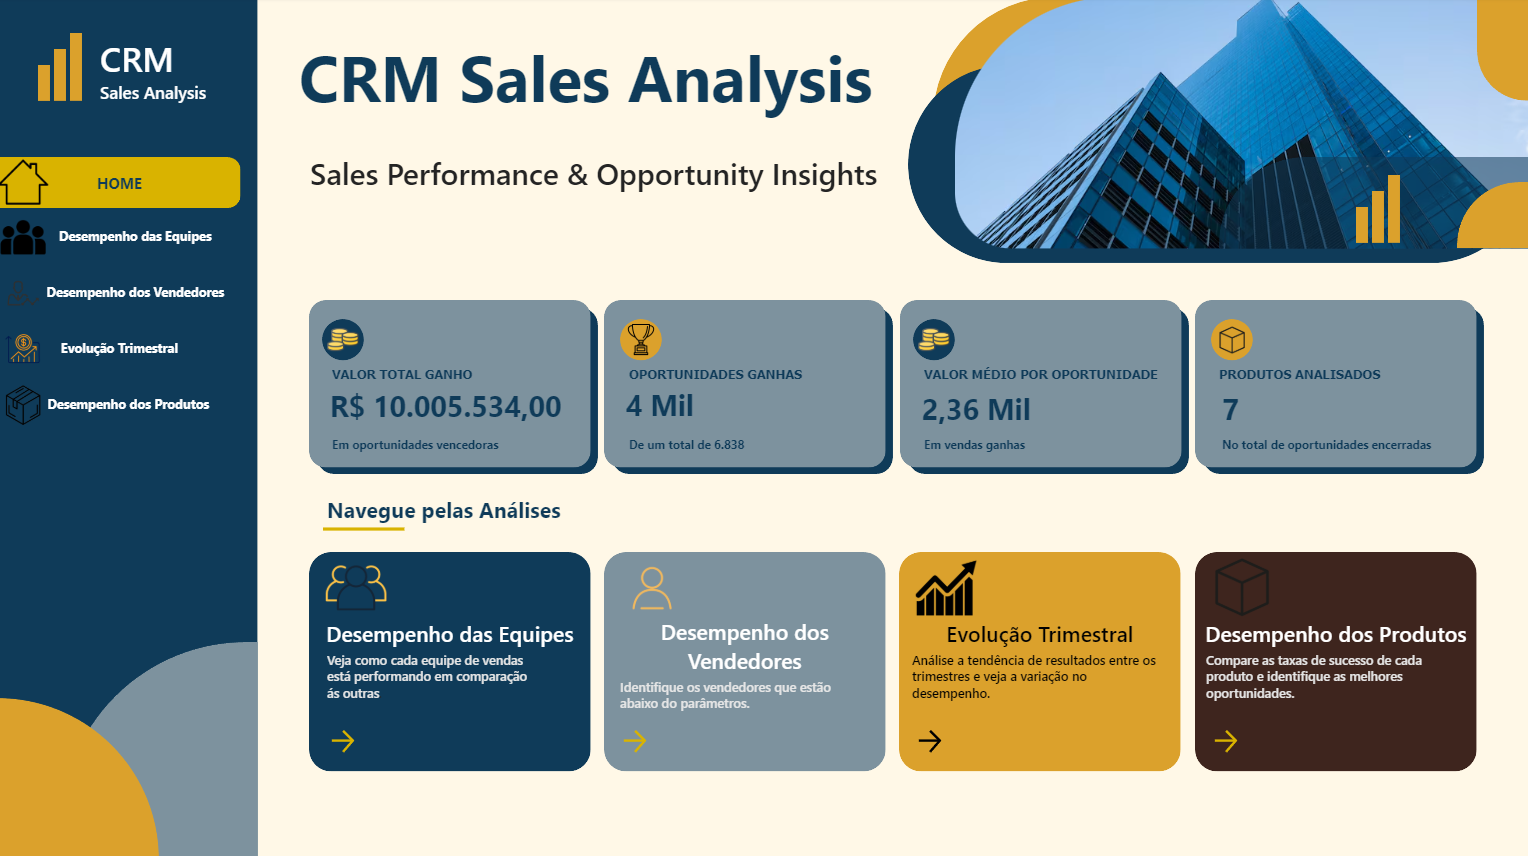

Layout of this report page (visuals, bound fields, positions):
{"tool":"powerbi","page":{"name":"Home","canvas":[1920,1080],"ordinal":0},"visuals":[{"type":"shape","box":[0,0,1920,1080],"z":0,"group":"g20"},{"type":"shape","box":[0,0,325,1080],"z":0,"group":"g1"},{"type":"group","id":"g1","title":"obj menu","box":[0,0,325,1080],"z":0,"group":"g4"},{"type":"shape","box":[1171.7,0,748.3,218.3],"z":0,"group":"g18"},{"type":"textbox","box":[377.2,45.7,744.1,144.4],"z":0,"group":"g16"},{"type":"actionButton","box":[0,200,304,64],"z":0,"group":"g5"},{"type":"actionButton","box":[0,270,304,64],"z":0,"group":"g8"},{"type":"actionButton","box":[0,340,304,64],"z":0,"group":"g12"},{"type":"group","id":"g2","title":"Produtos analisados","box":[1500,380,362,218],"z":0,"group":"g13"},{"type":"shape","box":[400,390,352,208],"z":0,"group":"g14"},{"type":"shape","box":[770,390,352,208],"z":0,"group":"g9"},{"type":"shape","box":[1140,390,352,208],"z":0,"group":"g6"},{"type":"shape","box":[1510,390,352,208],"z":0,"group":"g2"},{"type":"actionButton","box":[0,410,304,64],"z":0,"group":"g17"},{"type":"actionButton","box":[0,480,304,64],"z":0,"group":"g19"},{"type":"shape","box":[390,695,353,275],"z":0,"group":"g15"},{"type":"shape","box":[760,695,353,275],"z":0,"group":"g11"},{"type":"shape","box":[1130,695,353,275],"z":0,"group":"g7"},{"type":"shape","box":[1500,695,353,275],"z":0,"group":"g3"},{"type":"group","id":"g3","title":"Desempenho produtos","box":[1500,695,353,275],"z":0,"group":"g10"},{"type":"group","id":"g4","title":"Menu","box":[0,0,325,1080],"z":1000,"group":"g20"},{"type":"shape","box":[50,85,15,45],"z":1000,"group":"g1"},{"type":"shape","box":[1140,85,780,248.3],"z":1000,"group":"g18"},{"type":"textbox","box":[390.5,176.8,730.9,179.8],"z":1000,"group":"g16"},{"type":"group","id":"g5","title":"Home","box":[0,200,304.3,64.6],"z":1000,"group":"g4"},{"type":"textbox","box":[0,200.6,304.3,64],"z":1000,"group":"g5"},{"type":"image","box":[0,269.7,63.4,63.4],"z":1000,"group":"g8"},{"type":"textbox","box":[0,340.4,304.3,64],"z":1000,"group":"g12"},{"type":"shape","title":"v","box":[390,380,353,210],"z":1000,"group":"g14"},{"type":"shape","box":[760,380,353,210],"z":1000,"group":"g9"},{"type":"group","id":"g6","title":"Valor médio por oportunidade","box":[1130,380,362,218],"z":1000,"group":"g13"},{"type":"shape","box":[1130,380,353,210],"z":1000,"group":"g6"},{"type":"shape","box":[1500,380,353,210],"z":1000,"group":"g2"},{"type":"textbox","box":[0,410,304.3,64],"z":1000,"group":"g17"},{"type":"textbox","box":[0,480,304.3,64],"z":1000,"group":"g19"},{"type":"group","id":"g7","title":"Evolução Trimestral","box":[1129.8,695,353.2,275],"z":1000,"group":"g10"},{"type":"image","box":[390.5,702.9,117.9,75.1],"z":1000,"group":"g15"},{"type":"image","box":[760.3,702.9,117.9,75.1],"z":1000,"group":"g11"},{"type":"image","box":[1130.2,702.9,117.9,75.1],"z":1000,"group":"g7"},{"type":"image","box":[1500,702.9,117.9,75.1],"z":1000,"group":"g3"},{"type":"image","box":[1198.3,0,721.7,315],"z":2000,"group":"g18"},{"type":"shape","box":[70,65,15,65],"z":2000,"group":"g1"},{"type":"image","box":[0,200.4,63.4,63.4],"z":2000,"group":"g5"},{"type":"group","id":"g8","title":"Desempenho das equipes","box":[0,269.7,304.3,64.3],"z":2000,"group":"g4"},{"type":"textbox","box":[0,270,304.3,64],"z":2000,"group":"g8"},{"type":"image","box":[0,340.4,63.4,63.4],"z":2000,"group":"g12"},{"type":"group","id":"g9","title":"Oportunidades ganhas","box":[760,380,362,218],"z":2000,"group":"g13"},{"type":"shape","box":[406.2,403.8,52.5,51.9],"z":2000,"group":"g14"},{"type":"shape","box":[780,403.8,52.5,51.9],"z":2000,"group":"g9"},{"type":"shape","box":[1146.2,403.8,52.5,51.9],"z":2000,"group":"g6"},{"type":"shape","box":[1520,403.8,52.5,51.9],"z":2000,"group":"g2"},{"type":"image","box":[0,409.6,63.4,63.4],"z":2000,"group":"g17"},{"type":"image","box":[0,480.4,63.4,63.4],"z":2000,"group":"g19"},{"type":"shape","box":[406.7,639.7,102.3,55.2],"z":2000,"group":"g16"},{"type":"group","id":"g10","title":"Páginas detalhadas","box":[390,695,1463,275],"z":2000,"group":"g20"},{"type":"group","id":"g11","title":"Desempenho vendedor","box":[759.5,695,353.5,275],"z":2000,"group":"g10"},{"type":"textbox","box":[412.1,818.8,311.1,80.8],"z":2000,"group":"g15"},{"type":"textbox","box":[1146,818.8,311.1,80.8],"z":2000,"group":"g7"},{"type":"textbox","box":[1513.6,818.8,311.1,80.8],"z":2000,"group":"g3"},{"type":"textbox","box":[779.7,852.4,311.1,80.8],"z":2000,"group":"g11"},{"type":"shape","box":[90,45,15,85],"z":3000,"group":"g1"},{"type":"shape","box":[1530,200,390,115],"z":3000,"group":"g18"},{"type":"actionButton","box":[0,270,304,64],"z":3000,"group":"g8"},{"type":"group","id":"g12","title":"Desempenho dos vendedores","box":[0,340,304.3,64.4],"z":3000,"group":"g4"},{"type":"actionButton","box":[0,340,304,64],"z":3000,"group":"g12"},{"type":"group","id":"g13","title":"Cartões","box":[390,379.8,1472,218.2],"z":3000,"group":"g20"},{"type":"group","id":"g14","title":"Valor total ganho","box":[390,379.8,362,218.2],"z":3000,"group":"g13"},{"type":"actionButton","box":[0,410,304,64],"z":3000,"group":"g17"},{"type":"image","box":[412.5,410,40,39.4],"z":3000,"group":"g14"},{"type":"image","box":[786.2,410,40,39.4],"z":3000,"group":"g9"},{"type":"image","box":[1152.5,410,40,39.4],"z":3000,"group":"g6"},{"type":"image","box":[1520,410,52.5,40],"z":3000,"group":"g2"},{"type":"actionButton","box":[0,480.4,304,64],"z":3000,"group":"g19"},{"type":"textbox","box":[412,624.9,300.3,70],"z":3000,"group":"g16"},{"type":"group","id":"g15","title":"Desempenho equipe","box":[390,695,353,275],"z":3000,"group":"g10"},{"type":"actionButton","box":[393.2,899.6,76.8,66],"z":3000,"group":"g15"},{"type":"actionButton","box":[759.5,899.6,76.8,66],"z":3000,"group":"g11"},{"type":"actionButton","box":[1129.8,899.6,76.8,66],"z":3000,"group":"g7"},{"type":"actionButton","box":[1500.1,899.6,76.8,66],"z":3000,"group":"g3"},{"type":"group","id":"g16","title":"Título & Subtítulo","box":[377.2,45.7,744.1,649.2],"z":4000,"group":"g20"},{"type":"textbox","box":[128,48,160,96],"z":4000,"group":"g1"},{"type":"shape","box":[1828.3,231.7,91.7,83.3],"z":4000,"group":"g18"},{"type":"textbox","box":[390.5,379.8,352.8,210.1],"z":4000,"group":"g14"},{"type":"group","id":"g17","title":"Evolução Trimestral","box":[0,409.6,304.3,64.4],"z":4000,"group":"g4"},{"type":"textbox","box":[770.7,456.8,343.3,36.8],"z":4000,"group":"g9"},{"type":"textbox","box":[1140.5,456.8,343.3,36.8],"z":4000,"group":"g6"},{"type":"textbox","box":[1510.4,456.8,343.3,36.8],"z":4000,"group":"g2"},{"type":"group","id":"g18","title":"Imagens","box":[1140,0,780,333.3],"z":5000,"group":"g20"},{"type":"shape","box":[1853.3,0,66.7,130],"z":5000,"group":"g18"},{"type":"group","id":"g19","title":"Desempenho dos produtos","box":[0,480,304.3,64.4],"z":5000,"group":"g4"},{"type":"cardVisual","fields":{"Data":["crm_sales sales_pipeline.Oportunidades_Ganhas_Qtd"]},"box":[761.8,483.3,352.8,56.6],"z":5000,"group":"g9"},{"type":"textbox","box":[1513.3,483.3,343.3,56],"z":5000,"group":"g2"},{"type":"cardVisual","fields":{"Data":["crm_sales sales_pipeline.Oportunidades_Ganhas_Display"]},"box":[390.5,483.5,352.8,56.6],"z":5000,"group":"g14"},{"type":"cardVisual","fields":{"Data":["crm_sales sales_pipeline.Valor_Medio_Oportunidade_Ganha"]},"box":[1131.7,487.7,352.8,56.6],"z":5000,"group":"g6"},{"type":"shape","box":[78.3,808.3,246.7,271.7],"z":5000,"group":"g1"},{"type":"group","id":"g20","title":"Home","box":[0,0,1920,1080],"z":5001},{"type":"shape","box":[1701.9,262.5,15,45],"z":6000,"group":"g18"},{"type":"textbox","box":[399.3,456.8,343.3,36.8],"z":6000,"group":"g14"},{"type":"textbox","box":[770.7,543.7,343.3,38.3],"z":6000,"group":"g9"},{"type":"textbox","box":[1140.5,543.7,343.3,38.3],"z":6000,"group":"g6"},{"type":"textbox","box":[1513.3,543.7,343.3,38.3],"z":6000,"group":"g2"},{"type":"shape","box":[0,878.3,201.7,201.7],"z":6000,"group":"g1"},{"type":"shape","box":[1721.9,242.5,15,65],"z":7000,"group":"g18"},{"type":"textbox","box":[399.3,543.8,343.3,38.3],"z":7000,"group":"g14"},{"type":"shape","box":[1741.9,222.5,15,85],"z":8000,"group":"g18"}]}

Visuals, with their boxes in screenshot pixels (x1, y1, x2, y2), scaled from the page's 1920x1080 canvas onto the 1528x856 screenshot:
shape: l=0, t=0, r=1527, b=855
shape: l=0, t=0, r=259, b=855
"obj menu" group: l=0, t=0, r=259, b=855
shape: l=932, t=0, r=1527, b=173
textbox: l=300, t=36, r=892, b=151
actionButton: l=0, t=159, r=242, b=209
actionButton: l=0, t=214, r=242, b=265
actionButton: l=0, t=269, r=242, b=320
"Produtos analisados" group: l=1194, t=301, r=1482, b=474
shape: l=318, t=309, r=598, b=474
shape: l=613, t=309, r=893, b=474
shape: l=907, t=309, r=1187, b=474
shape: l=1202, t=309, r=1482, b=474
actionButton: l=0, t=325, r=242, b=376
actionButton: l=0, t=380, r=242, b=431
shape: l=310, t=551, r=591, b=769
shape: l=605, t=551, r=886, b=769
shape: l=899, t=551, r=1180, b=769
shape: l=1194, t=551, r=1475, b=769
"Desempenho produtos" group: l=1194, t=551, r=1475, b=769
"Menu" group: l=0, t=0, r=259, b=855
shape: l=40, t=67, r=52, b=103
shape: l=907, t=67, r=1527, b=264
textbox: l=311, t=140, r=892, b=283
"Home" group: l=0, t=159, r=242, b=210
textbox: l=0, t=159, r=242, b=210
image: l=0, t=214, r=50, b=264
textbox: l=0, t=270, r=242, b=321
"v" shape: l=310, t=301, r=591, b=468
shape: l=605, t=301, r=886, b=468
"Valor médio por oportunidade" group: l=899, t=301, r=1187, b=474
shape: l=899, t=301, r=1180, b=468
shape: l=1194, t=301, r=1475, b=468
textbox: l=0, t=325, r=242, b=376
textbox: l=0, t=380, r=242, b=431
"Evolução Trimestral" group: l=899, t=551, r=1180, b=769
image: l=311, t=557, r=405, b=617
image: l=605, t=557, r=699, b=617
image: l=899, t=557, r=993, b=617
image: l=1194, t=557, r=1288, b=617
image: l=954, t=0, r=1527, b=250
shape: l=56, t=52, r=68, b=103
image: l=0, t=159, r=50, b=209
"Desempenho das equipes" group: l=0, t=214, r=242, b=265
textbox: l=0, t=214, r=242, b=265
image: l=0, t=270, r=50, b=320
"Oportunidades ganhas" group: l=605, t=301, r=893, b=474
shape: l=323, t=320, r=365, b=361
shape: l=621, t=320, r=663, b=361
shape: l=912, t=320, r=954, b=361
shape: l=1210, t=320, r=1251, b=361
image: l=0, t=325, r=50, b=375
image: l=0, t=381, r=50, b=431
shape: l=324, t=507, r=405, b=551
"Páginas detalhadas" group: l=310, t=551, r=1475, b=769
"Desempenho vendedor" group: l=604, t=551, r=886, b=769
textbox: l=328, t=649, r=576, b=713
textbox: l=912, t=649, r=1160, b=713
textbox: l=1205, t=649, r=1452, b=713
textbox: l=621, t=676, r=868, b=740
shape: l=72, t=36, r=84, b=103
shape: l=1218, t=159, r=1527, b=250
actionButton: l=0, t=214, r=242, b=265
"Desempenho dos vendedores" group: l=0, t=269, r=242, b=321
actionButton: l=0, t=269, r=242, b=320
"Cartões" group: l=310, t=301, r=1482, b=474
"Valor total ganho" group: l=310, t=301, r=598, b=474
actionButton: l=0, t=325, r=242, b=376
image: l=328, t=325, r=360, b=356
image: l=626, t=325, r=658, b=356
image: l=917, t=325, r=949, b=356
image: l=1210, t=325, r=1251, b=357
actionButton: l=0, t=381, r=242, b=431
textbox: l=328, t=495, r=567, b=551
"Desempenho equipe" group: l=310, t=551, r=591, b=769
actionButton: l=313, t=713, r=374, b=765
actionButton: l=604, t=713, r=666, b=765
actionButton: l=899, t=713, r=960, b=765
actionButton: l=1194, t=713, r=1255, b=765
"Título & Subtítulo" group: l=300, t=36, r=892, b=551
textbox: l=102, t=38, r=229, b=114
shape: l=1455, t=184, r=1527, b=250
textbox: l=311, t=301, r=592, b=468
"Evolução Trimestral" group: l=0, t=325, r=242, b=376
textbox: l=613, t=362, r=887, b=391
textbox: l=908, t=362, r=1181, b=391
textbox: l=1202, t=362, r=1475, b=391
"Imagens" group: l=907, t=0, r=1527, b=264
shape: l=1475, t=0, r=1527, b=103
"Desempenho dos produtos" group: l=0, t=380, r=242, b=431
cardVisual - crm_sales sales_pipeline.Oportunidades_Ganhas_Qtd: l=606, t=383, r=887, b=428
textbox: l=1204, t=383, r=1478, b=427
cardVisual - crm_sales sales_pipeline.Oportunidades_Ganhas_Display: l=311, t=383, r=592, b=428
cardVisual - crm_sales sales_pipeline.Valor_Medio_Oportunidade_Ganha: l=901, t=387, r=1181, b=431
shape: l=62, t=641, r=259, b=855
"Home" group: l=0, t=0, r=1527, b=855
shape: l=1354, t=208, r=1366, b=244
textbox: l=318, t=362, r=591, b=391
textbox: l=613, t=431, r=887, b=461
textbox: l=908, t=431, r=1181, b=461
textbox: l=1204, t=431, r=1478, b=461
shape: l=0, t=696, r=161, b=855
shape: l=1370, t=192, r=1382, b=244
textbox: l=318, t=431, r=591, b=461
shape: l=1386, t=176, r=1398, b=244
